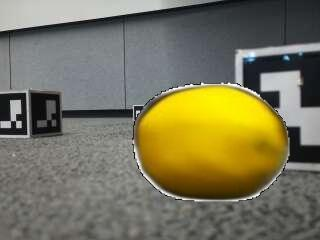lemon: (136, 86, 287, 198)
